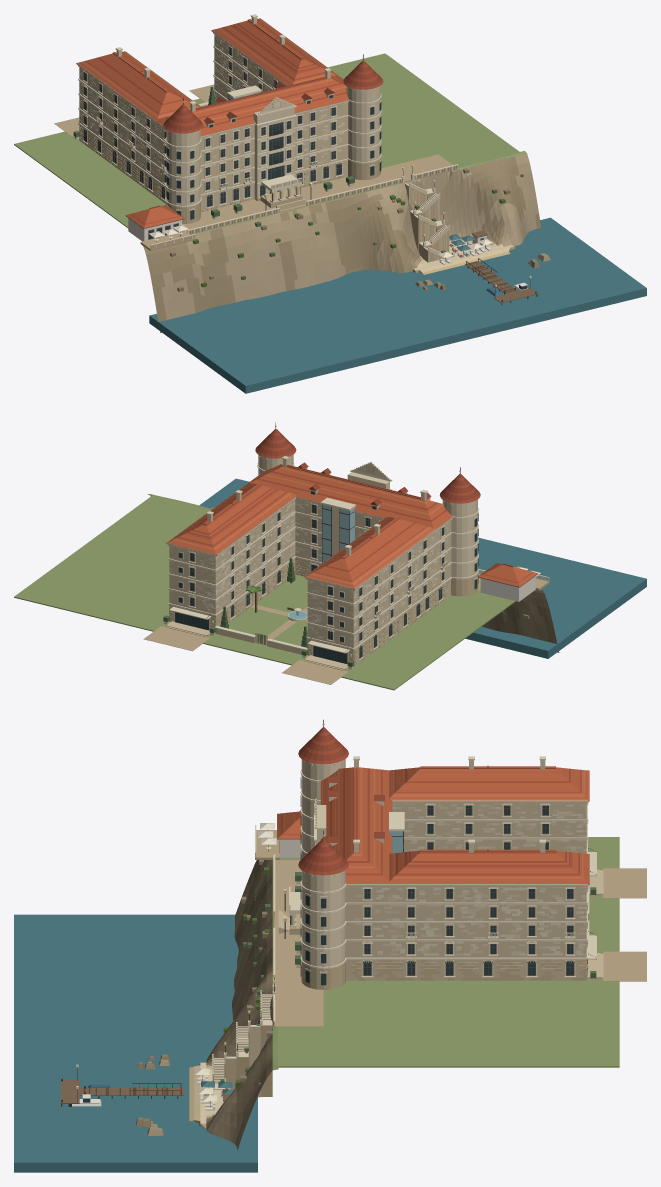
Rendered from the-imperial-kemskoy.glb.
3 views of the same model, one above another, from view 1: azimuth 30°, elevation 25°; view 2: azimuth 150°, elevation 25°; view 3: azimuth 270°, elevation 25° (orthographic). The views are drawn at different scales.
Parts seen in each view (by area): view 1: deniz, kaya, cimen, kaya2, silme, kesme2, kiremit1, kesme, tas3, cam, ahsap, kiremit4 (+8 smaller); view 2: cimen, kesme2, kiremit1, silme, deniz, kesme, cam, kiremit4, tas3, ahsap, kiremit3, rustik (+8 smaller); view 3: deniz, cimen, kesme2, kiremit1, silme, kesme, tas3, kaya, kaya2, kiremit4, cam, ahsap (+5 smaller).
Boxes of the visible parts, x1,y1,x2,y2 form: deniz: [149, 217, 646, 393]; kaya: [161, 153, 550, 319]; cimen: [14, 53, 526, 246]; kaya2: [143, 156, 540, 332]; silme: [76, 14, 457, 257]; kesme2: [78, 33, 447, 262]; kiremit1: [79, 18, 348, 228]; kesme: [74, 17, 457, 258]; tas3: [54, 84, 457, 262]; cam: [83, 47, 526, 289]; ahsap: [76, 18, 538, 303]; kiremit4: [97, 18, 383, 208]; cimen: [14, 494, 541, 690]; kesme2: [166, 465, 452, 670]; kiremit1: [167, 464, 537, 587]; silme: [167, 454, 549, 663]; deniz: [199, 478, 646, 658]; kesme: [164, 455, 549, 669]; cam: [175, 491, 478, 663]; kiremit4: [177, 431, 513, 572]; tas3: [143, 574, 549, 684]; ahsap: [166, 471, 538, 658]; kiremit3: [173, 464, 443, 588]; rustik: [169, 558, 478, 663]; deniz: [14, 914, 257, 1172]; cimen: [272, 837, 619, 1070]; kesme2: [213, 801, 603, 1097]; kiremit1: [277, 766, 589, 883]; silme: [212, 756, 596, 1089]; kesme: [212, 759, 595, 1081]; tas3: [213, 830, 646, 1096]; kaya: [147, 864, 273, 1148]; kaya2: [136, 860, 272, 1150]; kiremit4: [298, 731, 579, 875]; cam: [83, 777, 587, 1102]; ahsap: [60, 770, 589, 1107].
Size of the model in its own units: 107 by 49.25 by 116.
